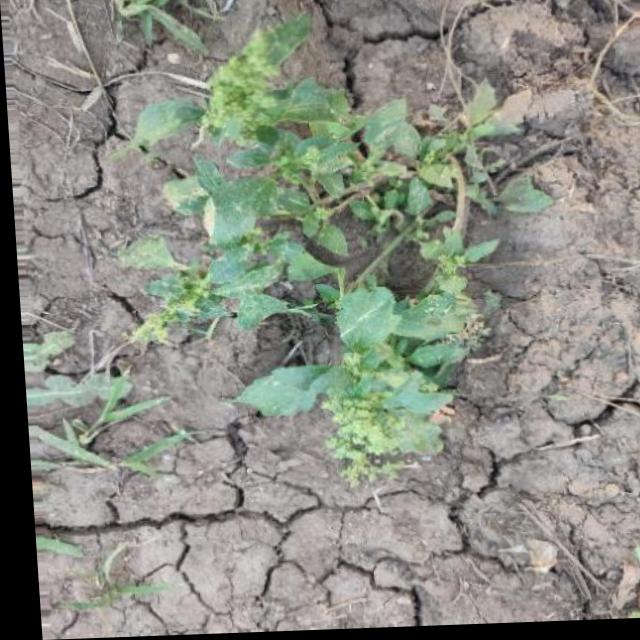weed: (90, 66, 546, 500)
